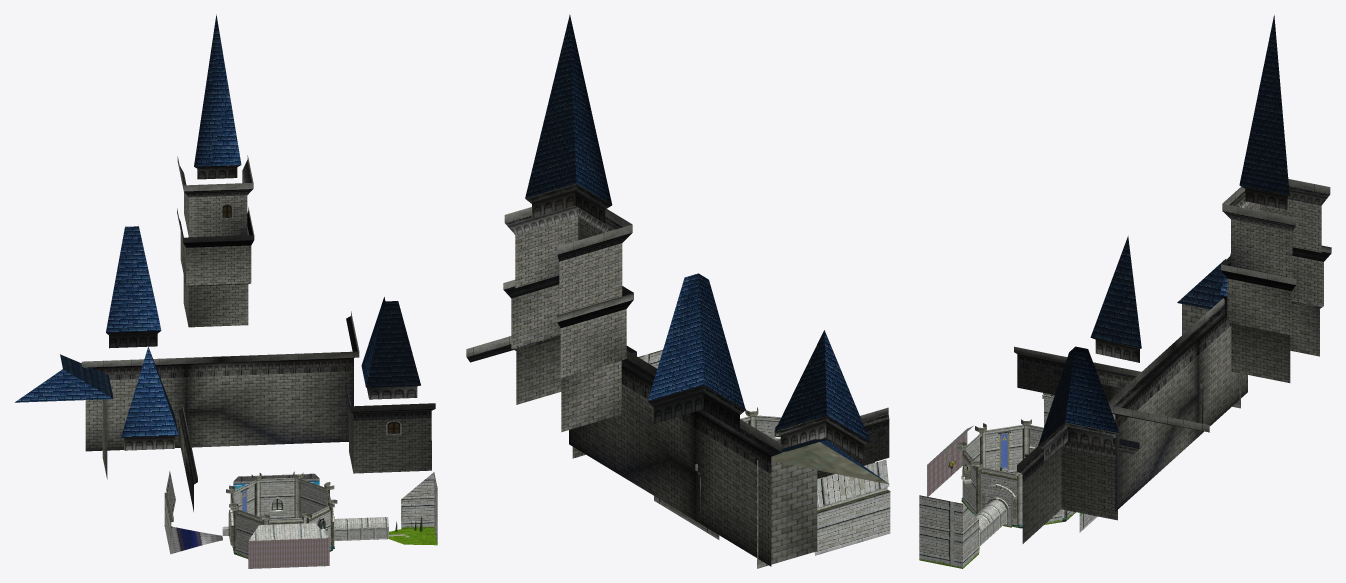
Rendered from HyruleCastleCourtyard.glb.
The picture shows the model from 3 angles, left to right: view 1: azimuth 30°, elevation 25°; view 2: azimuth 150°, elevation 25°; view 3: azimuth 270°, elevation 25°; orthographic projection. The views are drawn at different scales.
Parts seen in each view (by area): view 1: node-03718D74, node-00D3BA62, node-02FDF917, node-02969E11, node-038431B5, node-024111C1, node-02E81EDC, node-03F060FD, node-022915BE; view 2: node-03718D74, node-00D3BA62, node-02FDF917, node-02969E11, node-024111C1, node-02E81EDC; view 3: node-03718D74, node-02FDF917, node-00D3BA62, node-02969E11, node-024111C1, node-038431B5, node-02E81EDC.
Part boxes in pixels (x1,y1,x2,y2): node-03718D74: [85, 172, 431, 511]; node-00D3BA62: [15, 14, 420, 437]; node-02FDF917: [81, 155, 435, 494]; node-02969E11: [164, 471, 437, 558]; node-038431B5: [248, 538, 329, 568]; node-024111C1: [170, 471, 337, 552]; node-02E81EDC: [164, 477, 334, 545]; node-03F060FD: [164, 525, 222, 554]; node-022915BE: [389, 528, 437, 545]; node-03718D74: [511, 216, 889, 568]; node-00D3BA62: [525, 14, 886, 482]; node-02FDF917: [466, 183, 889, 490]; node-02969E11: [638, 350, 890, 555]; node-024111C1: [745, 407, 889, 484]; node-02E81EDC: [740, 415, 889, 512]; node-03718D74: [1017, 199, 1323, 543]; node-02FDF917: [1014, 179, 1331, 482]; node-00D3BA62: [1038, 15, 1289, 446]; node-02969E11: [919, 393, 1115, 568]; node-024111C1: [950, 259, 1225, 527]; node-038431B5: [927, 432, 967, 496]; node-02E81EDC: [961, 394, 1053, 527].
Size of the model in its own units: 142 by 180 by 132.
Materials: 25 (25 with a texture image).
